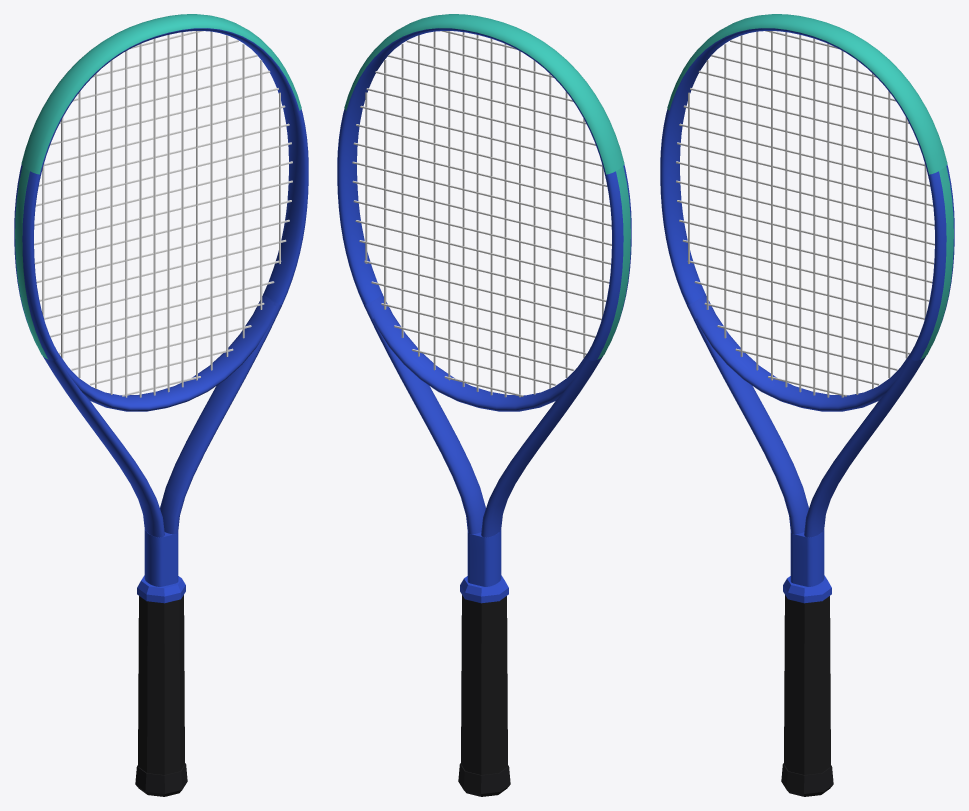
The model's file is wilson-ultra-100l-v5-2025.glb.
3 renders of one model, left to right at view 1: azimuth 30°, elevation 25°; view 2: azimuth 150°, elevation 25°; view 3: azimuth 330°, elevation 25°, orthographic.
Visible parts, largest first — view 1: frame, strings_mains, strings_crosses, grip, bumper, grommets, butt_cap, collar; view 2: frame, strings_mains, strings_crosses, grip, bumper, grommets, butt_cap, collar; view 3: frame, strings_mains, strings_crosses, grip, bumper, grommets, butt_cap, collar.
Boxes of the visible parts, x1,y1,x2,y2 form: frame: [14, 28, 308, 586]; strings_mains: [42, 31, 280, 397]; strings_crosses: [34, 31, 292, 396]; grip: [138, 595, 184, 774]; bumper: [21, 14, 301, 174]; grommets: [15, 166, 48, 359]; butt_cap: [135, 763, 187, 796]; collar: [137, 575, 185, 603]; frame: [337, 28, 631, 586]; strings_mains: [365, 31, 603, 397]; strings_crosses: [352, 31, 611, 396]; grip: [461, 595, 507, 774]; bumper: [344, 14, 624, 174]; grommets: [597, 166, 630, 359]; butt_cap: [458, 763, 510, 796]; collar: [460, 575, 508, 603]; frame: [660, 28, 954, 586]; strings_mains: [688, 31, 926, 397]; strings_crosses: [676, 31, 934, 396]; grip: [784, 595, 830, 774]; bumper: [667, 14, 947, 174]; grommets: [920, 166, 953, 359]; butt_cap: [781, 763, 833, 796]; collar: [783, 575, 831, 603].
Bounding box in the file's own units: 0.2687 × 0.6861 × 0.0396.
